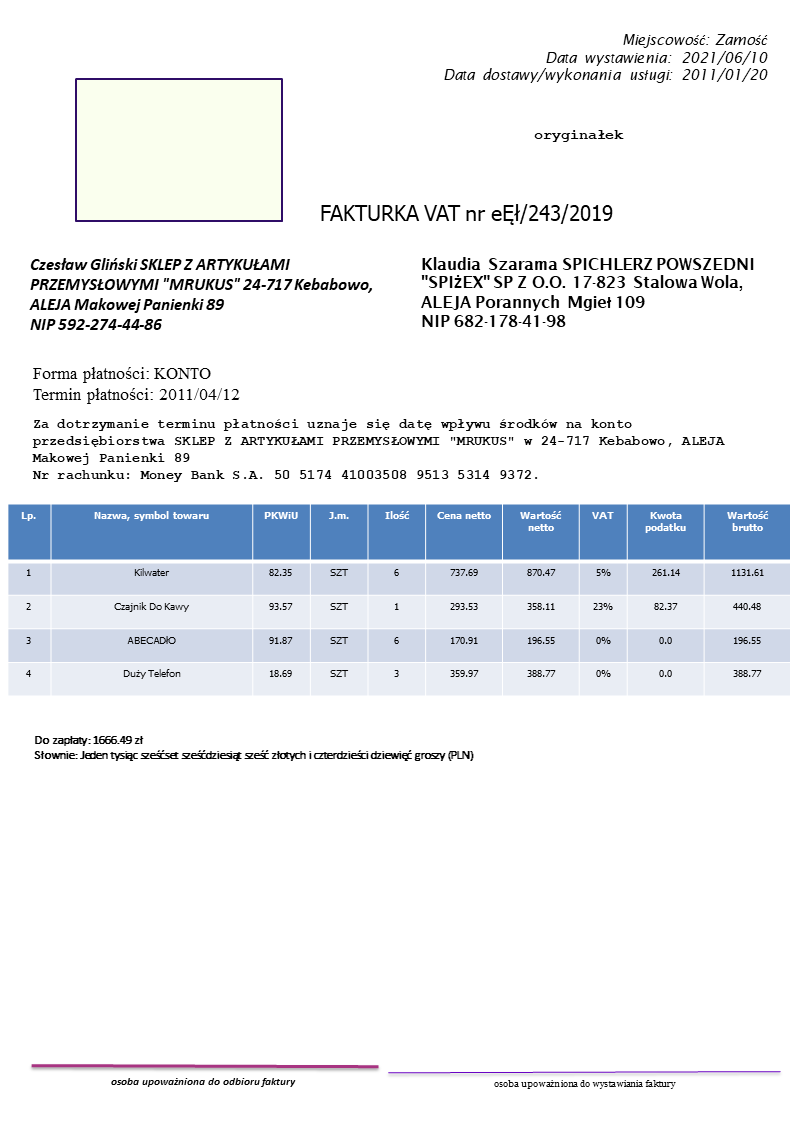Table: (7, 503, 790, 696)
TextBox: (29, 415, 729, 484), (27, 254, 374, 333), (418, 252, 756, 331), (440, 30, 770, 85), (29, 732, 475, 766), (29, 364, 243, 406), (317, 200, 614, 228), (108, 1074, 298, 1091), (491, 1077, 679, 1093), (530, 126, 624, 147)
